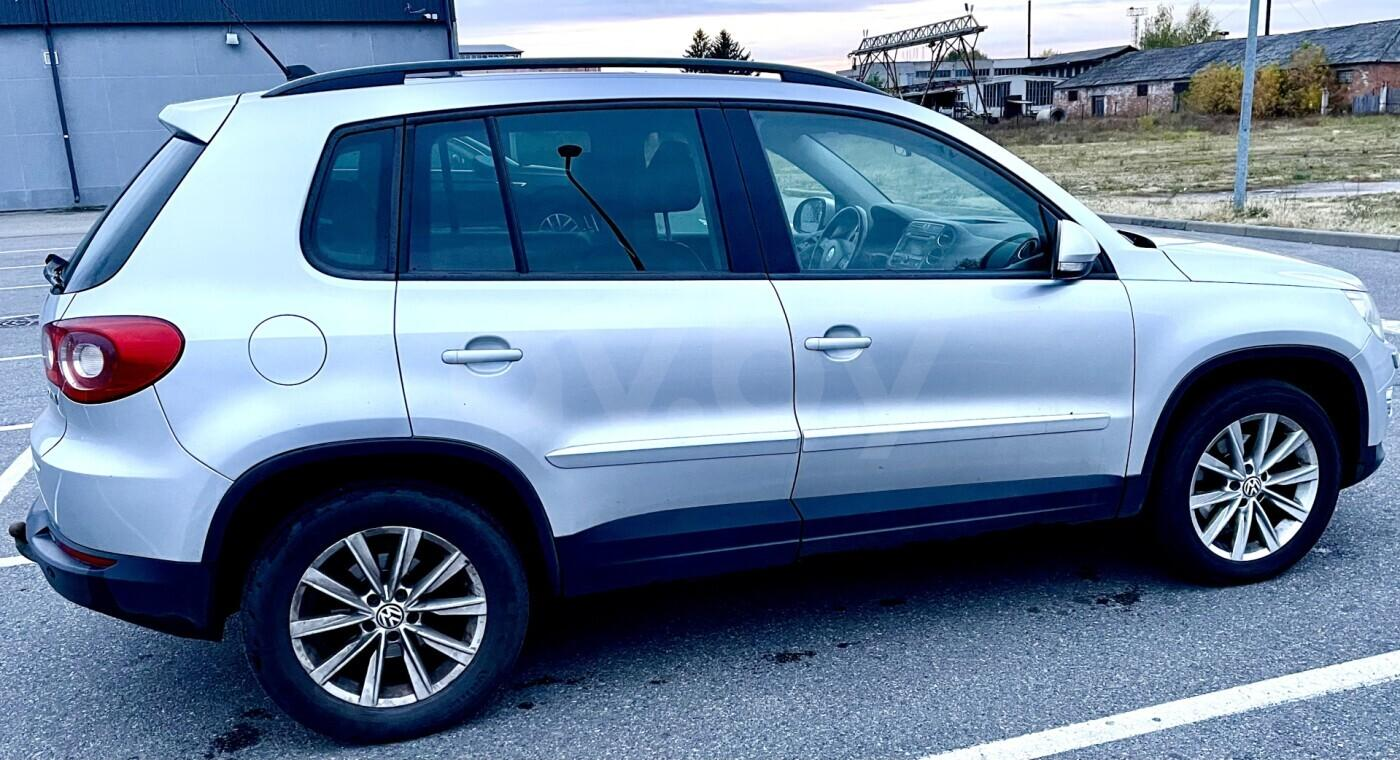Tiguan_2007-2011: (20, 55, 1400, 741)
